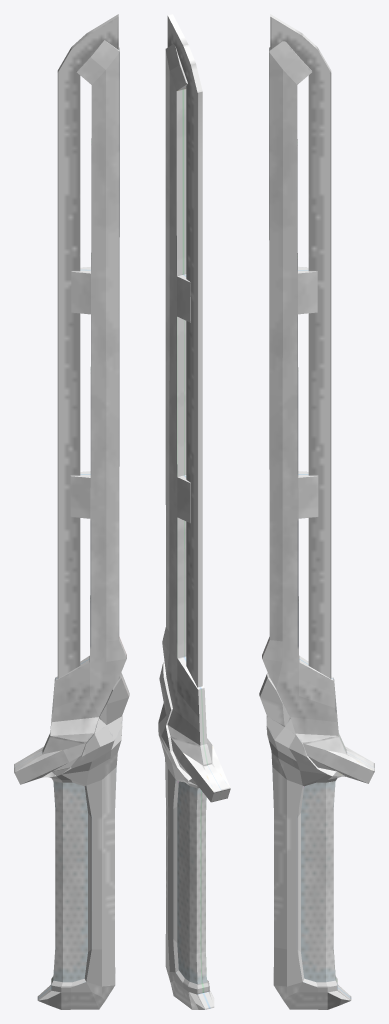
File: CyberSword.fbx
3 renders of one model, left to right at view 1: azimuth 90°, elevation 25°; view 2: azimuth 210°, elevation 25°; view 3: azimuth 270°, elevation 25°, orthographic.
Visible parts, largest first — view 1: Body, Blade, Handle; view 2: Body, Blade, Handle; view 3: Body, Blade, Handle.
Boxes of the visible parts, <box> form: Body: <box>14,40,126,982</box>; Blade: <box>57,14,118,678</box>; Handle: <box>37,672,129,1009</box>; Body: <box>162,44,230,984</box>; Blade: <box>167,14,202,687</box>; Handle: <box>158,662,214,1009</box>; Body: <box>262,41,374,982</box>; Blade: <box>270,14,331,678</box>; Handle: <box>259,672,351,1009</box>.
Size of the model in its own units: 16.96 by 448 by 47.38.
Materials: 3 (3 with a texture image).
